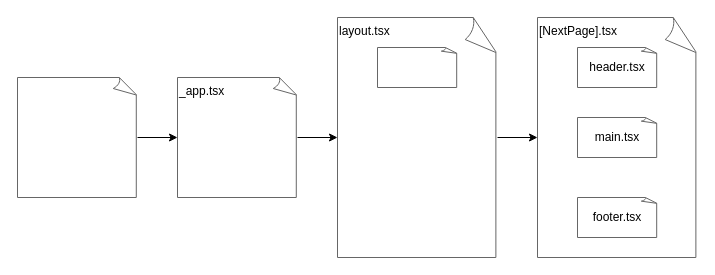
This 715x275 diagram has some shape labels left out. Here are the shapes that lost their labels. From the top down, the centre of each, then its label:
At [417,67]: "breadcrumb".
At [77,137]: "_document.tsx".
